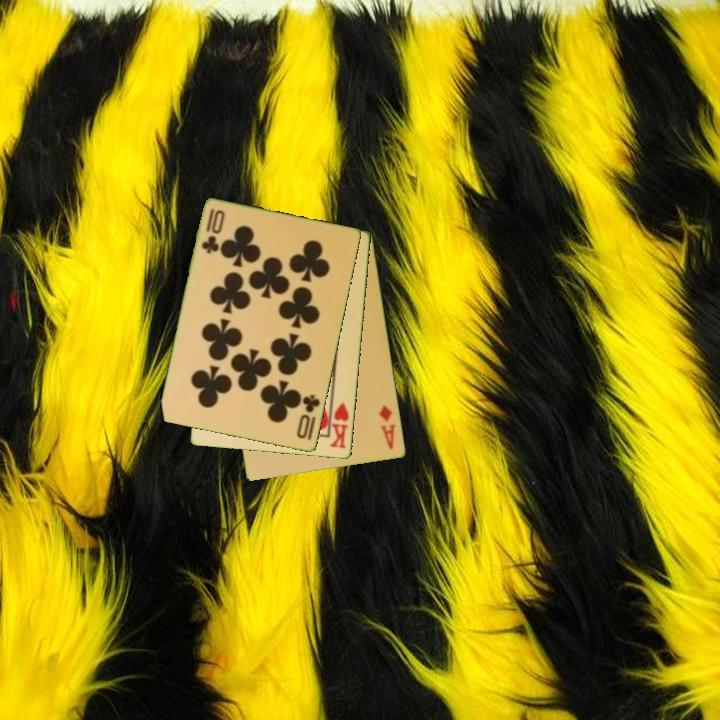10c: (293, 391, 323, 442), (198, 205, 227, 257)
Ad: (376, 401, 399, 452)
Kh: (326, 395, 352, 452)
